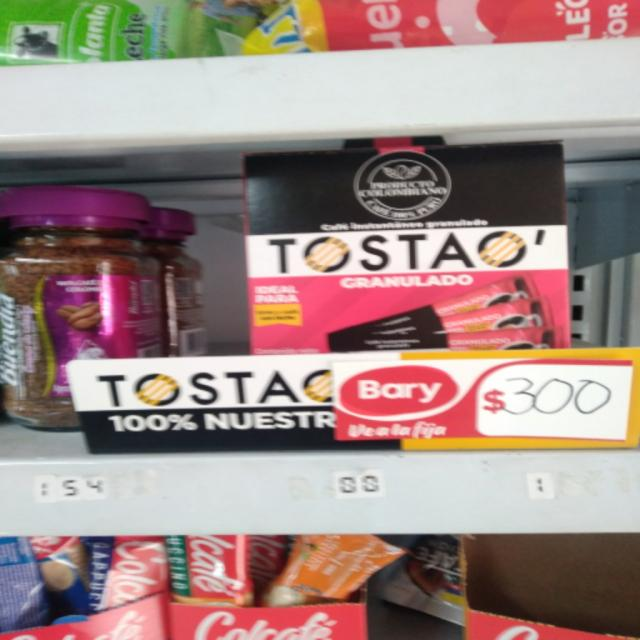Precio: (335, 359, 629, 446)
